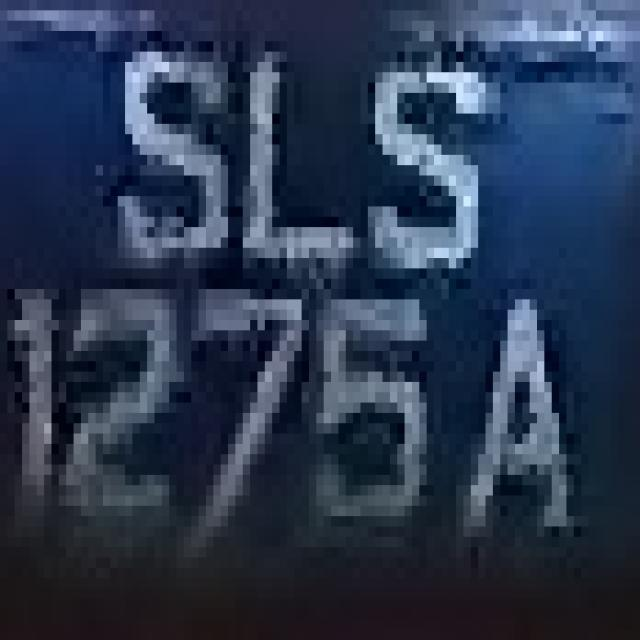1: (15, 268, 66, 547)
2: (51, 268, 184, 558)
5: (279, 258, 426, 527)
7: (176, 227, 316, 547)
A: (434, 258, 589, 568)
L: (206, 42, 375, 268)
S: (103, 21, 228, 268), (353, 62, 486, 268)
